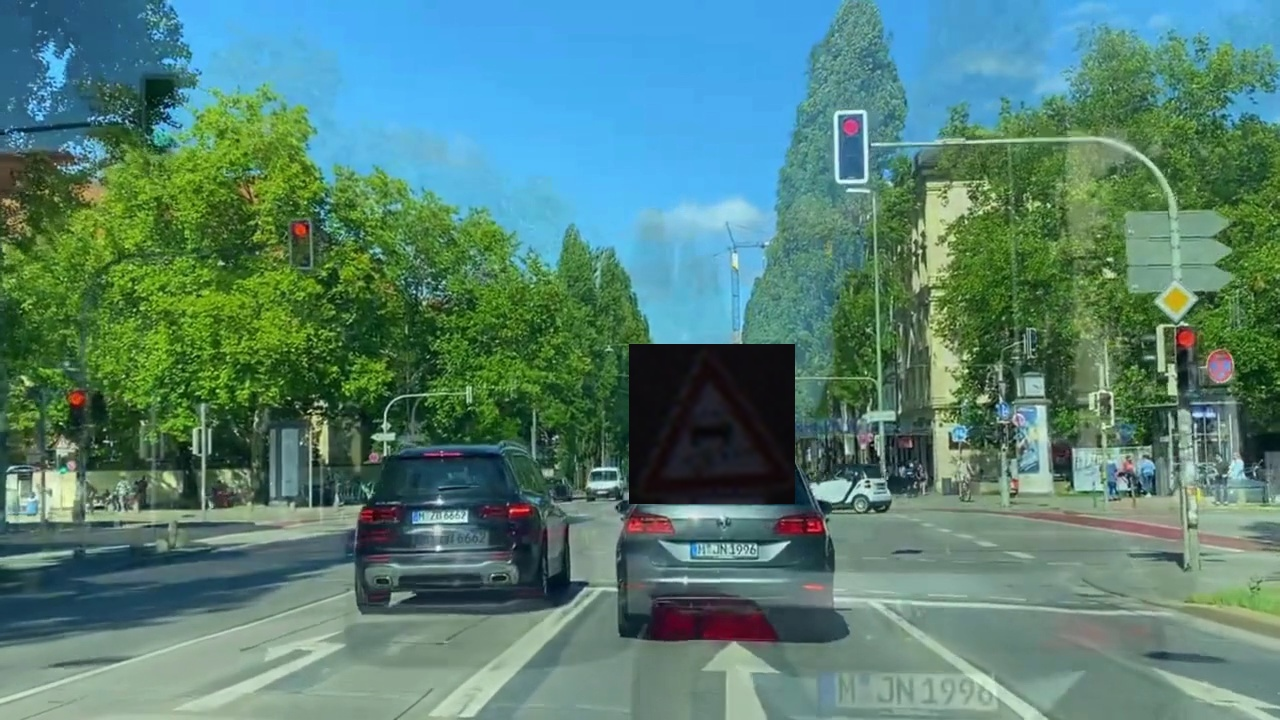Slippery: (629, 344, 795, 504)
